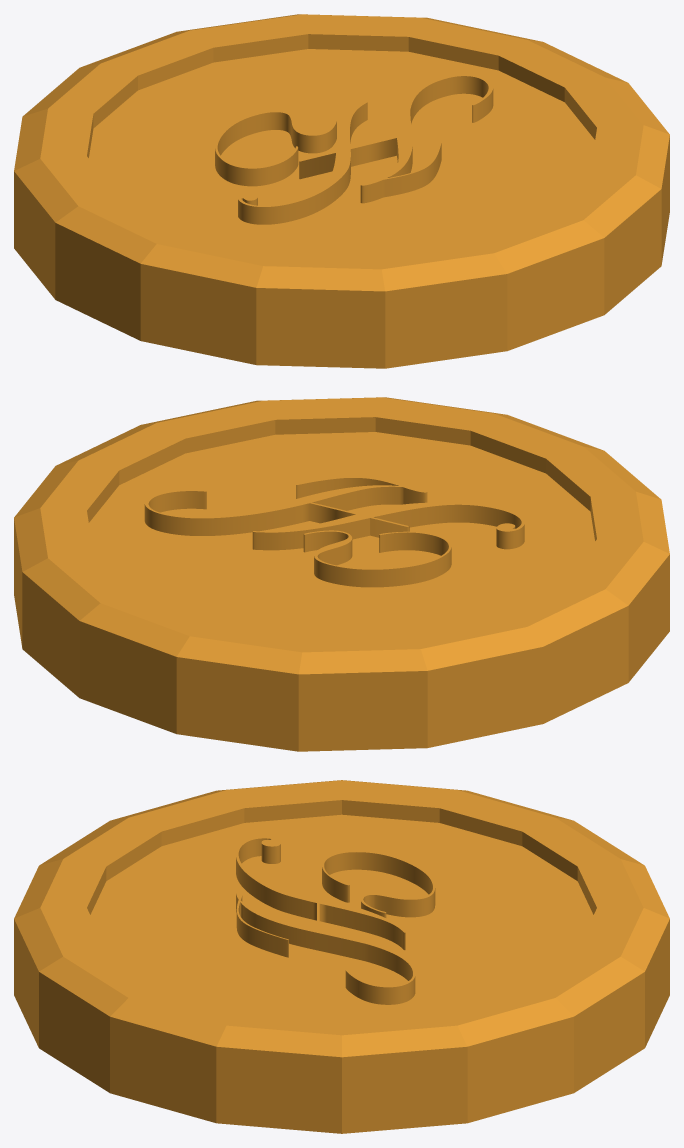
Rendered from coin.glb.
The picture shows the model from 3 angles, top to bottom: view 1: azimuth 30°, elevation 25°; view 2: azimuth 150°, elevation 25°; view 3: azimuth 270°, elevation 25°; orthographic projection.
Visible parts, largest first — view 1: Cylinder; view 2: Cylinder; view 3: Cylinder.
Boxes of the visible parts, x1,y1,x2,y2 form: Cylinder: (14, 14, 669, 368); Cylinder: (14, 397, 669, 751); Cylinder: (14, 780, 669, 1133).
Bounding box in the file's own units: 2 × 0.3403 × 2.
